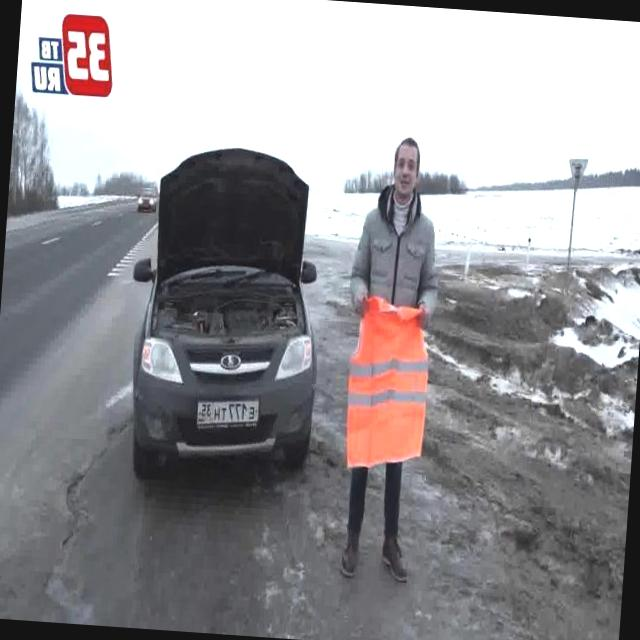vest: (339, 290, 434, 480)
